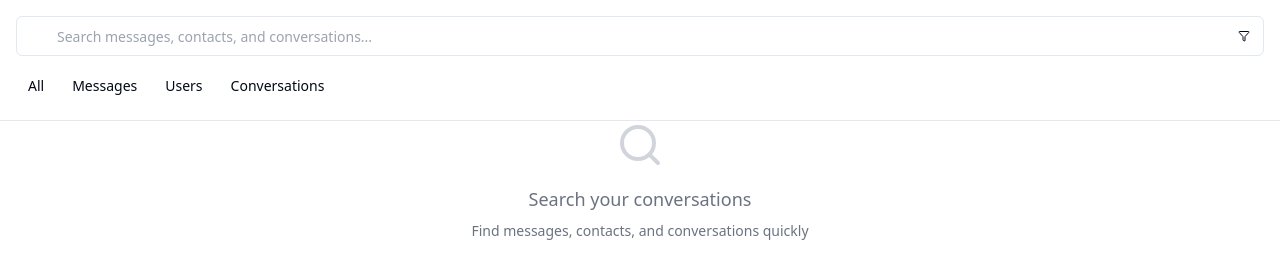
Test: SearchInterface › clears search when clear button is clicked
The image size is (1280, 257).
Type "test query" into the field with placeholder "Search messages, contacts, and conversations..." at point(640, 36), box [16,16,1264,56]
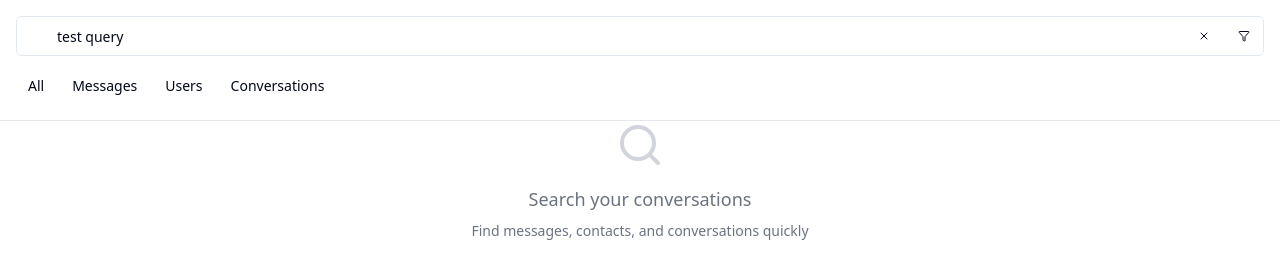
Click the button named "clear search" at point(1204, 36), box [1192,24,1216,48]
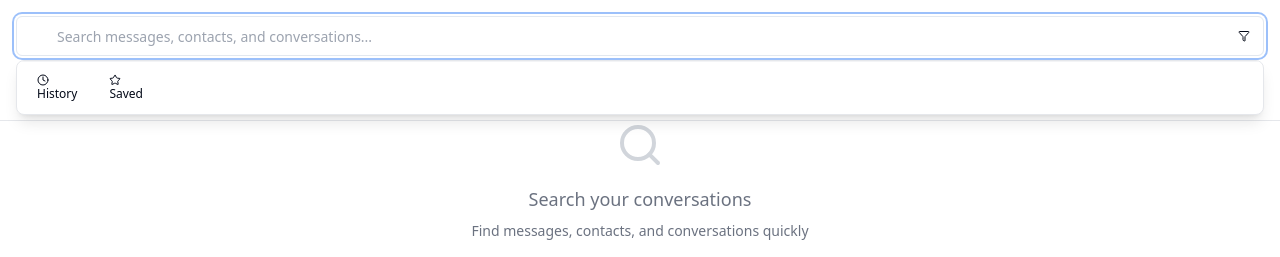
Expected: the field with placeholder "Search messages, contacts, and conversations..." is empty, [16,16,1264,56]
